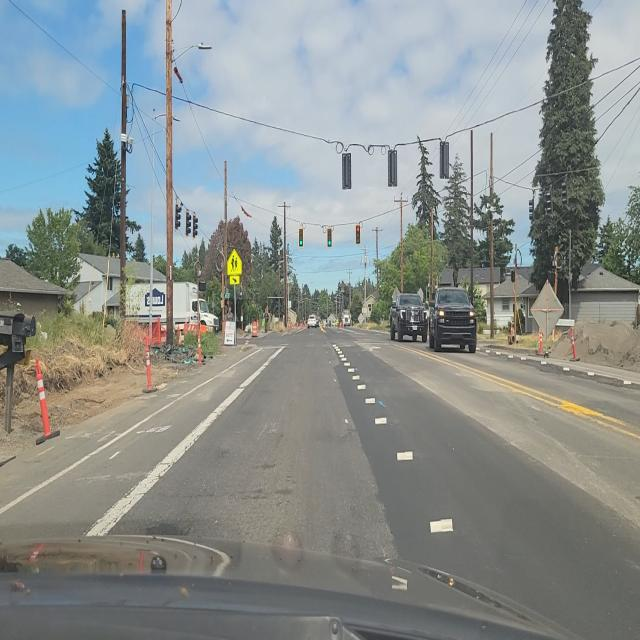car: (390, 293, 427, 343), (340, 310, 352, 328), (307, 314, 318, 329)
delineator: (35, 361, 53, 439), (143, 333, 153, 390), (228, 248, 242, 283), (197, 309, 202, 363), (569, 328, 577, 360), (538, 328, 544, 355), (177, 325, 184, 346)
